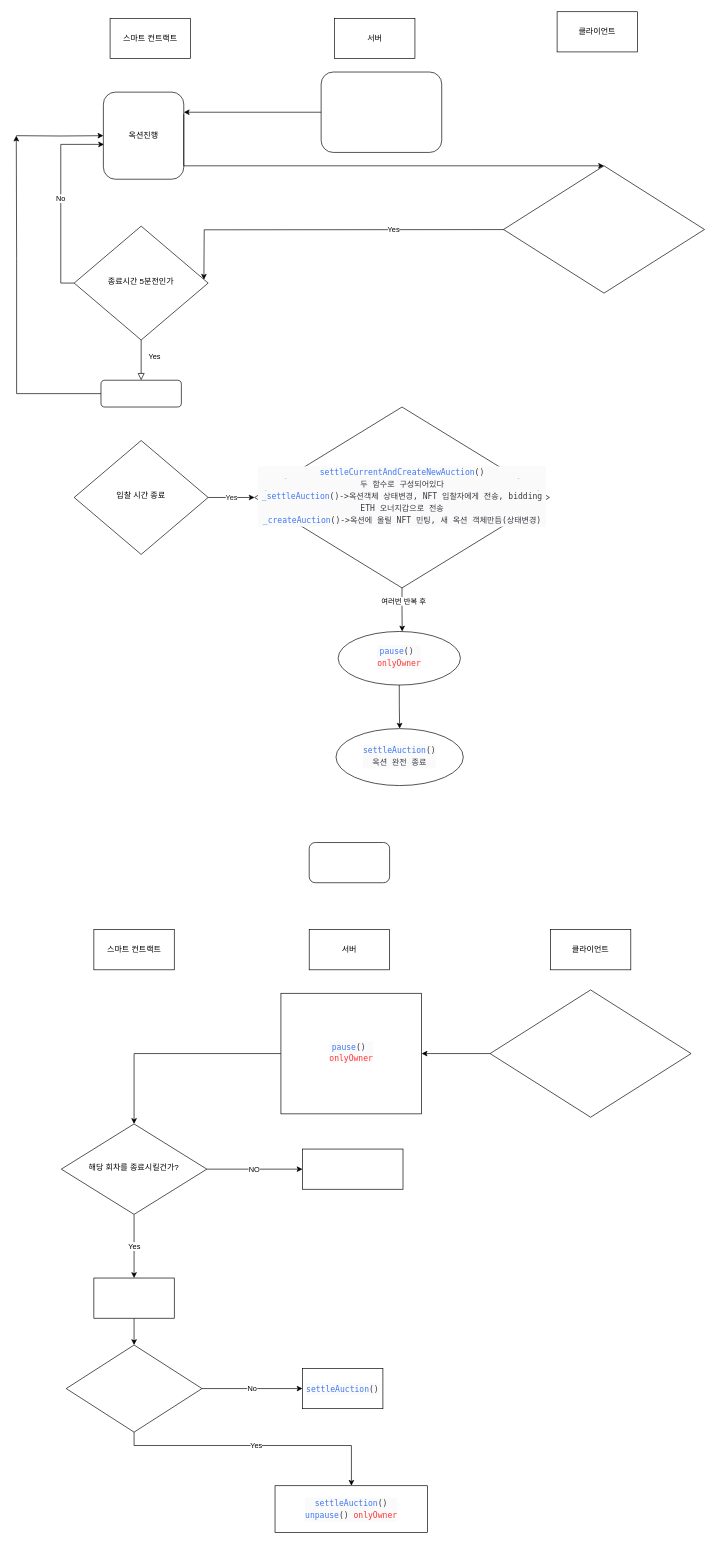
This 717x1544 diagram has some shape labels left out. The box of each missing label's shape, as (x1, y1, x2, y2) in pixels:
createBid () 마지막 입찰자에게 입찰가 환불 상태변경(새 입찰자, 입찰가): (503, 165, 705, 293)
endTime 경과전에 unpause () onlyOwner: (302, 1148, 403, 1189)
unpause () onlyOwner 옥션 재시작/ 유효 옥션 없을시 새 옥션시작: (320, 71, 442, 152)
문제 발생 시나리오: (309, 842, 390, 883)
새 옥션을 시작하나?: (66, 1344, 202, 1432)
예시: createBid () 를 계속 넣을경우: (489, 989, 691, 1117)
일단 endTime이 끝나기를 기다린다: (93, 1277, 174, 1318)
종료 시간 5분연장: (100, 380, 181, 407)
